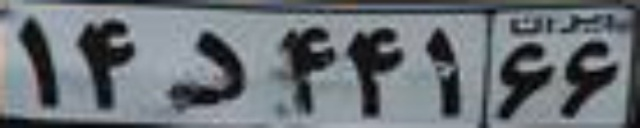1: (17, 17, 60, 108), (423, 27, 464, 117)
4: (77, 19, 138, 109), (347, 27, 406, 118), (273, 27, 332, 117)
6: (559, 39, 618, 118), (498, 39, 554, 119)
dal: (160, 31, 253, 106)
